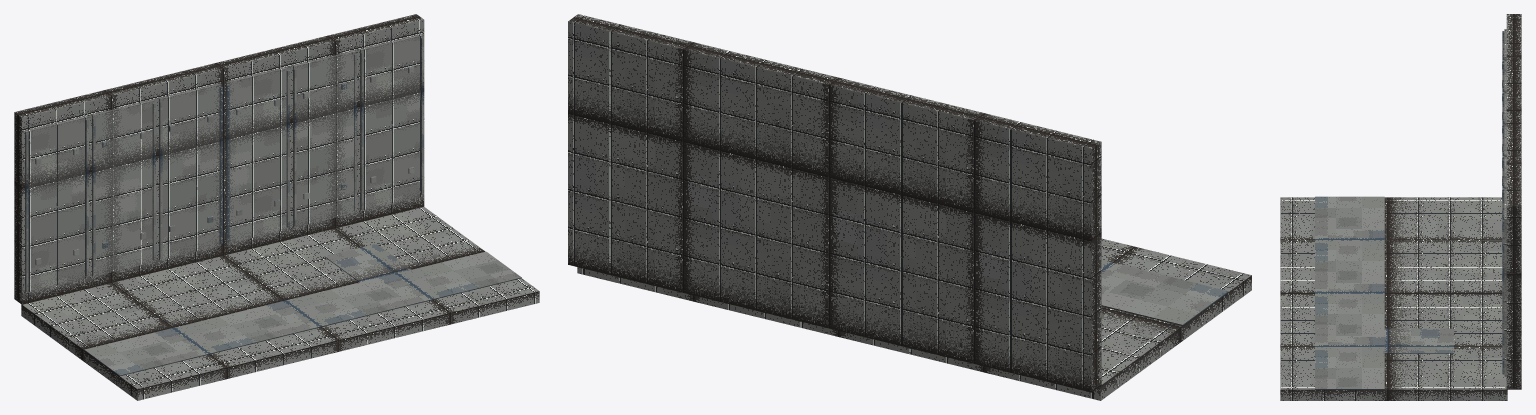
The model's file is secret_wear_traffic.glb.
The picture shows the model from 3 angles, left to right: view 1: azimuth 30°, elevation 25°; view 2: azimuth 150°, elevation 25°; view 3: azimuth 270°, elevation 25°; orthographic projection. The views are drawn at different scales.
Parts seen in each view (by area): view 1: secret_wear_traffic; view 2: secret_wear_traffic; view 3: secret_wear_traffic.
Boxes of the visible parts, box(x1,y1,x2,y2) form: secret_wear_traffic: box(14, 14, 539, 400); secret_wear_traffic: box(568, 14, 1251, 400); secret_wear_traffic: box(1280, 14, 1521, 400).
Bounding box in the file's own units: 7.2 × 3.4 × 3.82.
Materials: 4 (4 with a texture image).
